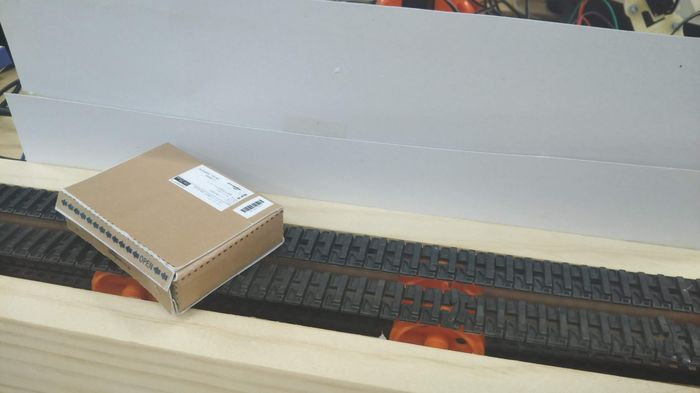box2: (53, 141, 284, 318)
